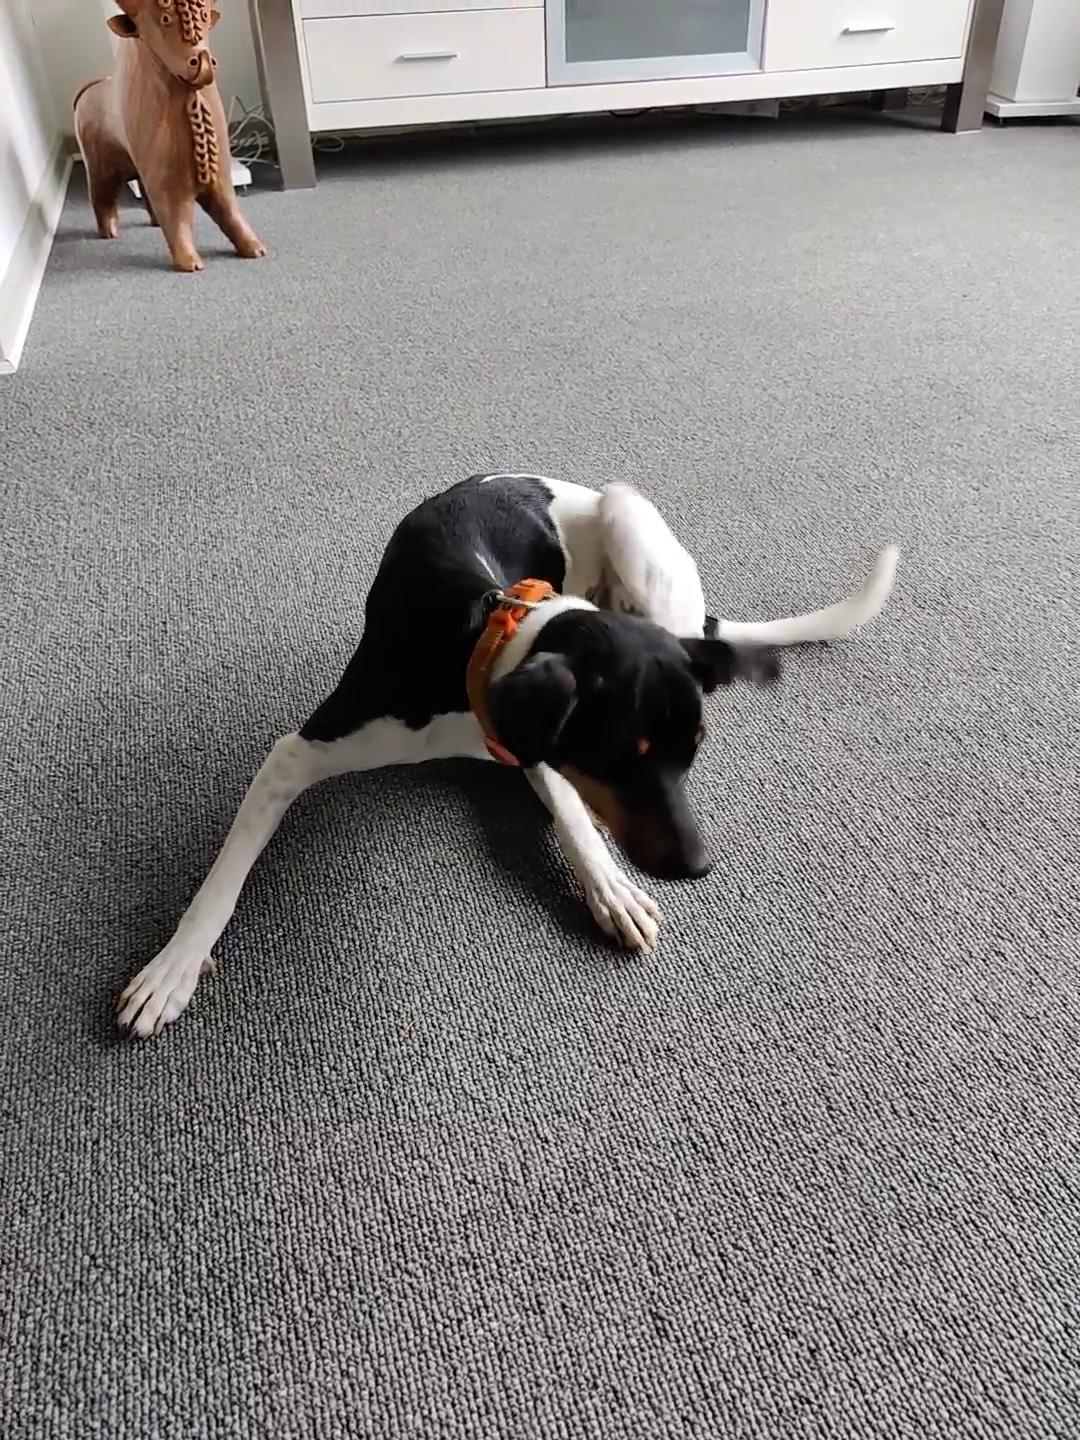Dog: (90, 455, 911, 1054)
